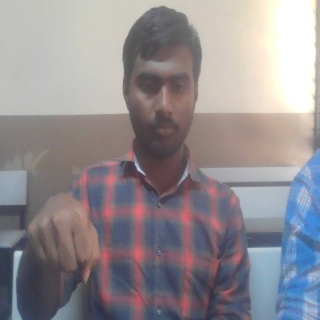Face: (121, 5, 203, 162)
Yes: (24, 192, 100, 286)
